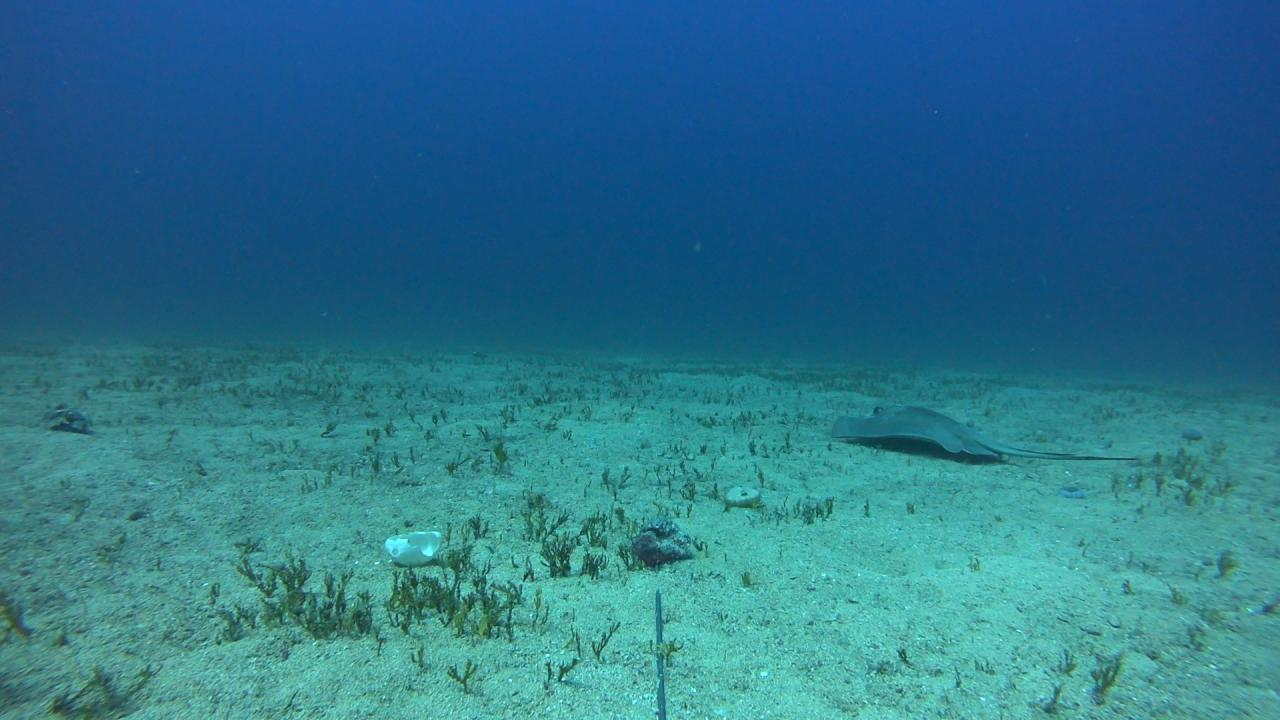dasyatis: (831, 406, 1136, 461)
